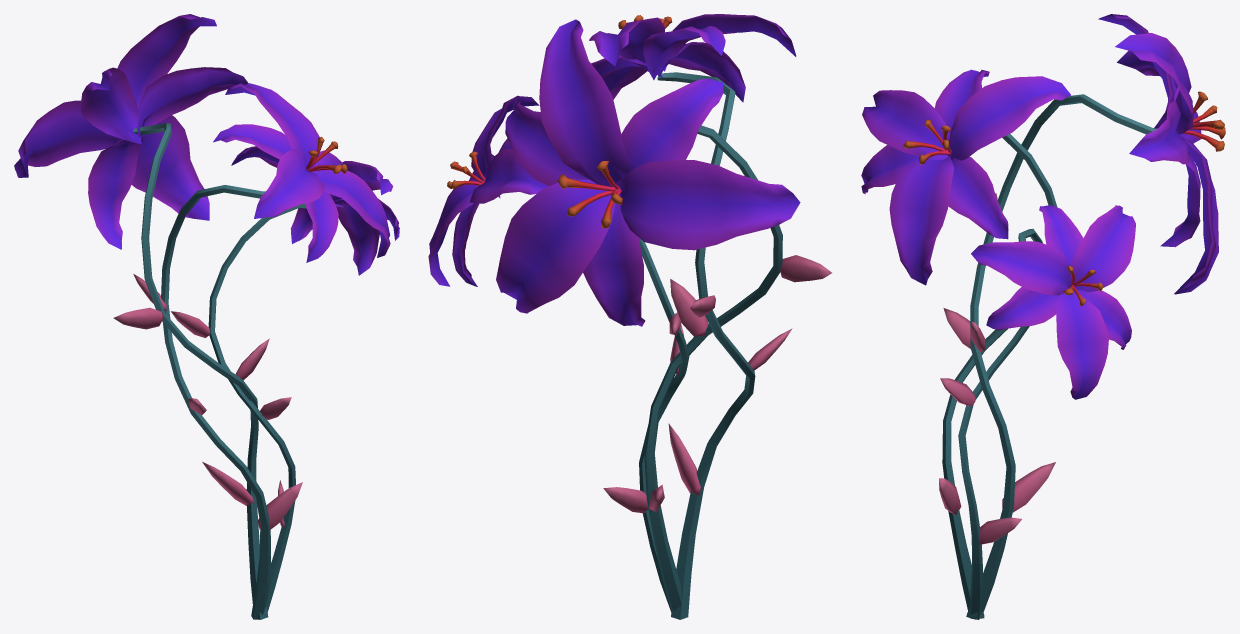
The model's file is OBJ_MoonflowerLily.fbx.
3 renders of one model, left to right at view 1: azimuth 30°, elevation 25°; view 2: azimuth 150°, elevation 25°; view 3: azimuth 270°, elevation 25°, orthographic. The views are drawn at different scales.
Visible parts, largest first — view 1: OBJ_MoonflowerLily; view 2: OBJ_MoonflowerLily; view 3: OBJ_MoonflowerLily.
Part boxes in pixels (x1=…): OBJ_MoonflowerLily: x1=14, y1=14, x2=399, y2=619; OBJ_MoonflowerLily: x1=428, y1=14, x2=831, y2=619; OBJ_MoonflowerLily: x1=861, y1=14, x2=1225, y2=619.
Size of the model in its own units: 89.33 by 141 by 79.07.
